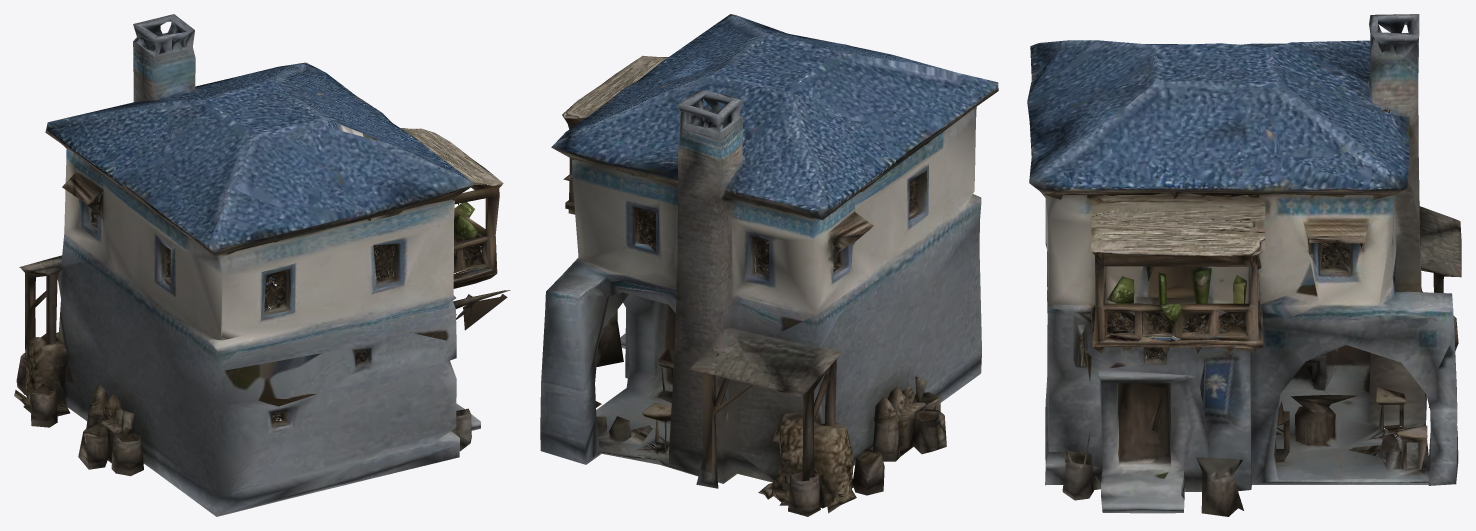
The model's file is house_craftsman_1.glb.
3 views of the same model, side by side, from view 1: azimuth 30°, elevation 25°; view 2: azimuth 150°, elevation 25°; view 3: azimuth 270°, elevation 25° (orthographic). The views are drawn at different scales.
Visible parts, largest first — view 1: house_craftsman_1; view 2: house_craftsman_1; view 3: house_craftsman_1.
Part boxes in pixels (x1=…): house_craftsman_1: x1=14, y1=14, x2=510, y2=516; house_craftsman_1: x1=540, y1=14, x2=998, y2=516; house_craftsman_1: x1=1027, y1=14, x2=1461, y2=516.
Size of the model in its own units: 0.9685 by 0.9 by 0.9131.
Materials: 1 (1 with a texture image).
